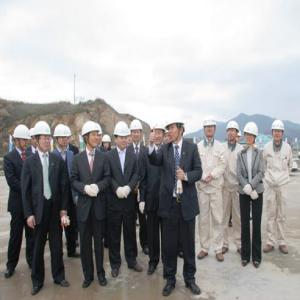white: (166, 115, 186, 144), (82, 122, 100, 150), (37, 121, 53, 152), (14, 124, 30, 151), (115, 122, 130, 149), (271, 119, 286, 142), (204, 116, 218, 139), (55, 125, 67, 151), (245, 122, 259, 144), (131, 119, 143, 144), (152, 122, 165, 145), (226, 121, 240, 142), (102, 135, 112, 151), (30, 129, 38, 147)
